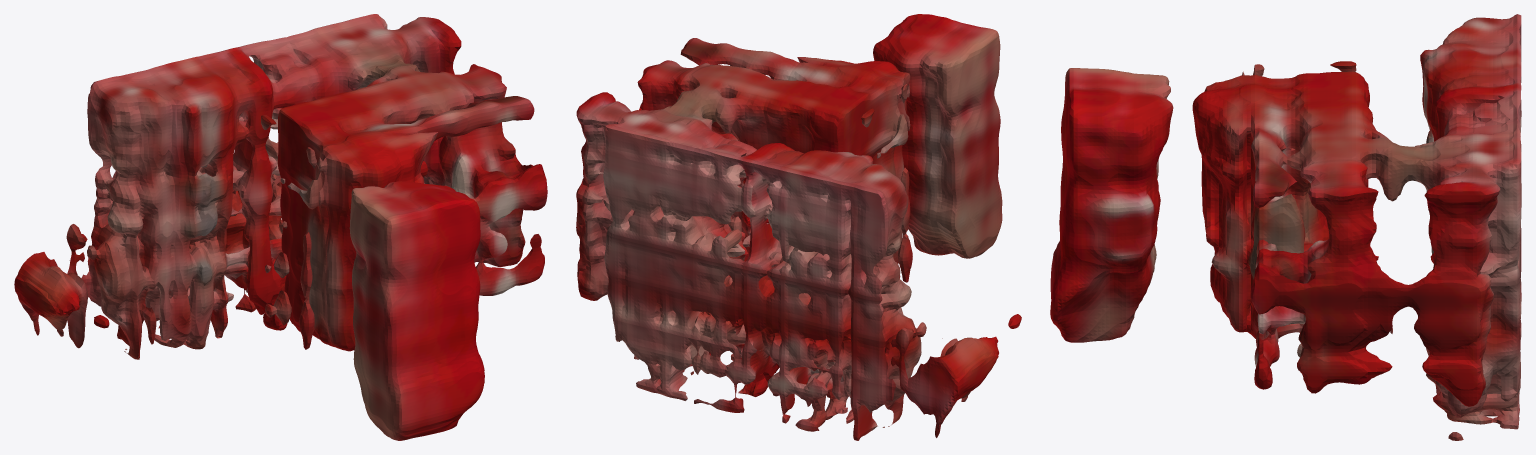
File: a_red_tv.0.glb
3 views of the same model, side by side, from view 1: azimuth 30°, elevation 25°; view 2: azimuth 150°, elevation 25°; view 3: azimuth 270°, elevation 25° (orthographic). The views are drawn at different scales.
Parts seen in each view (by area): view 1: a_red_tv.0.obj; view 2: a_red_tv.0.obj; view 3: a_red_tv.0.obj.
Part boxes in pixels (x1,y1,x2,y2): a_red_tv.0.obj: (14, 14, 547, 440); a_red_tv.0.obj: (576, 14, 1021, 440); a_red_tv.0.obj: (1050, 14, 1521, 440).
Size of the model in its own units: 1.98 by 1.23 by 1.81.
